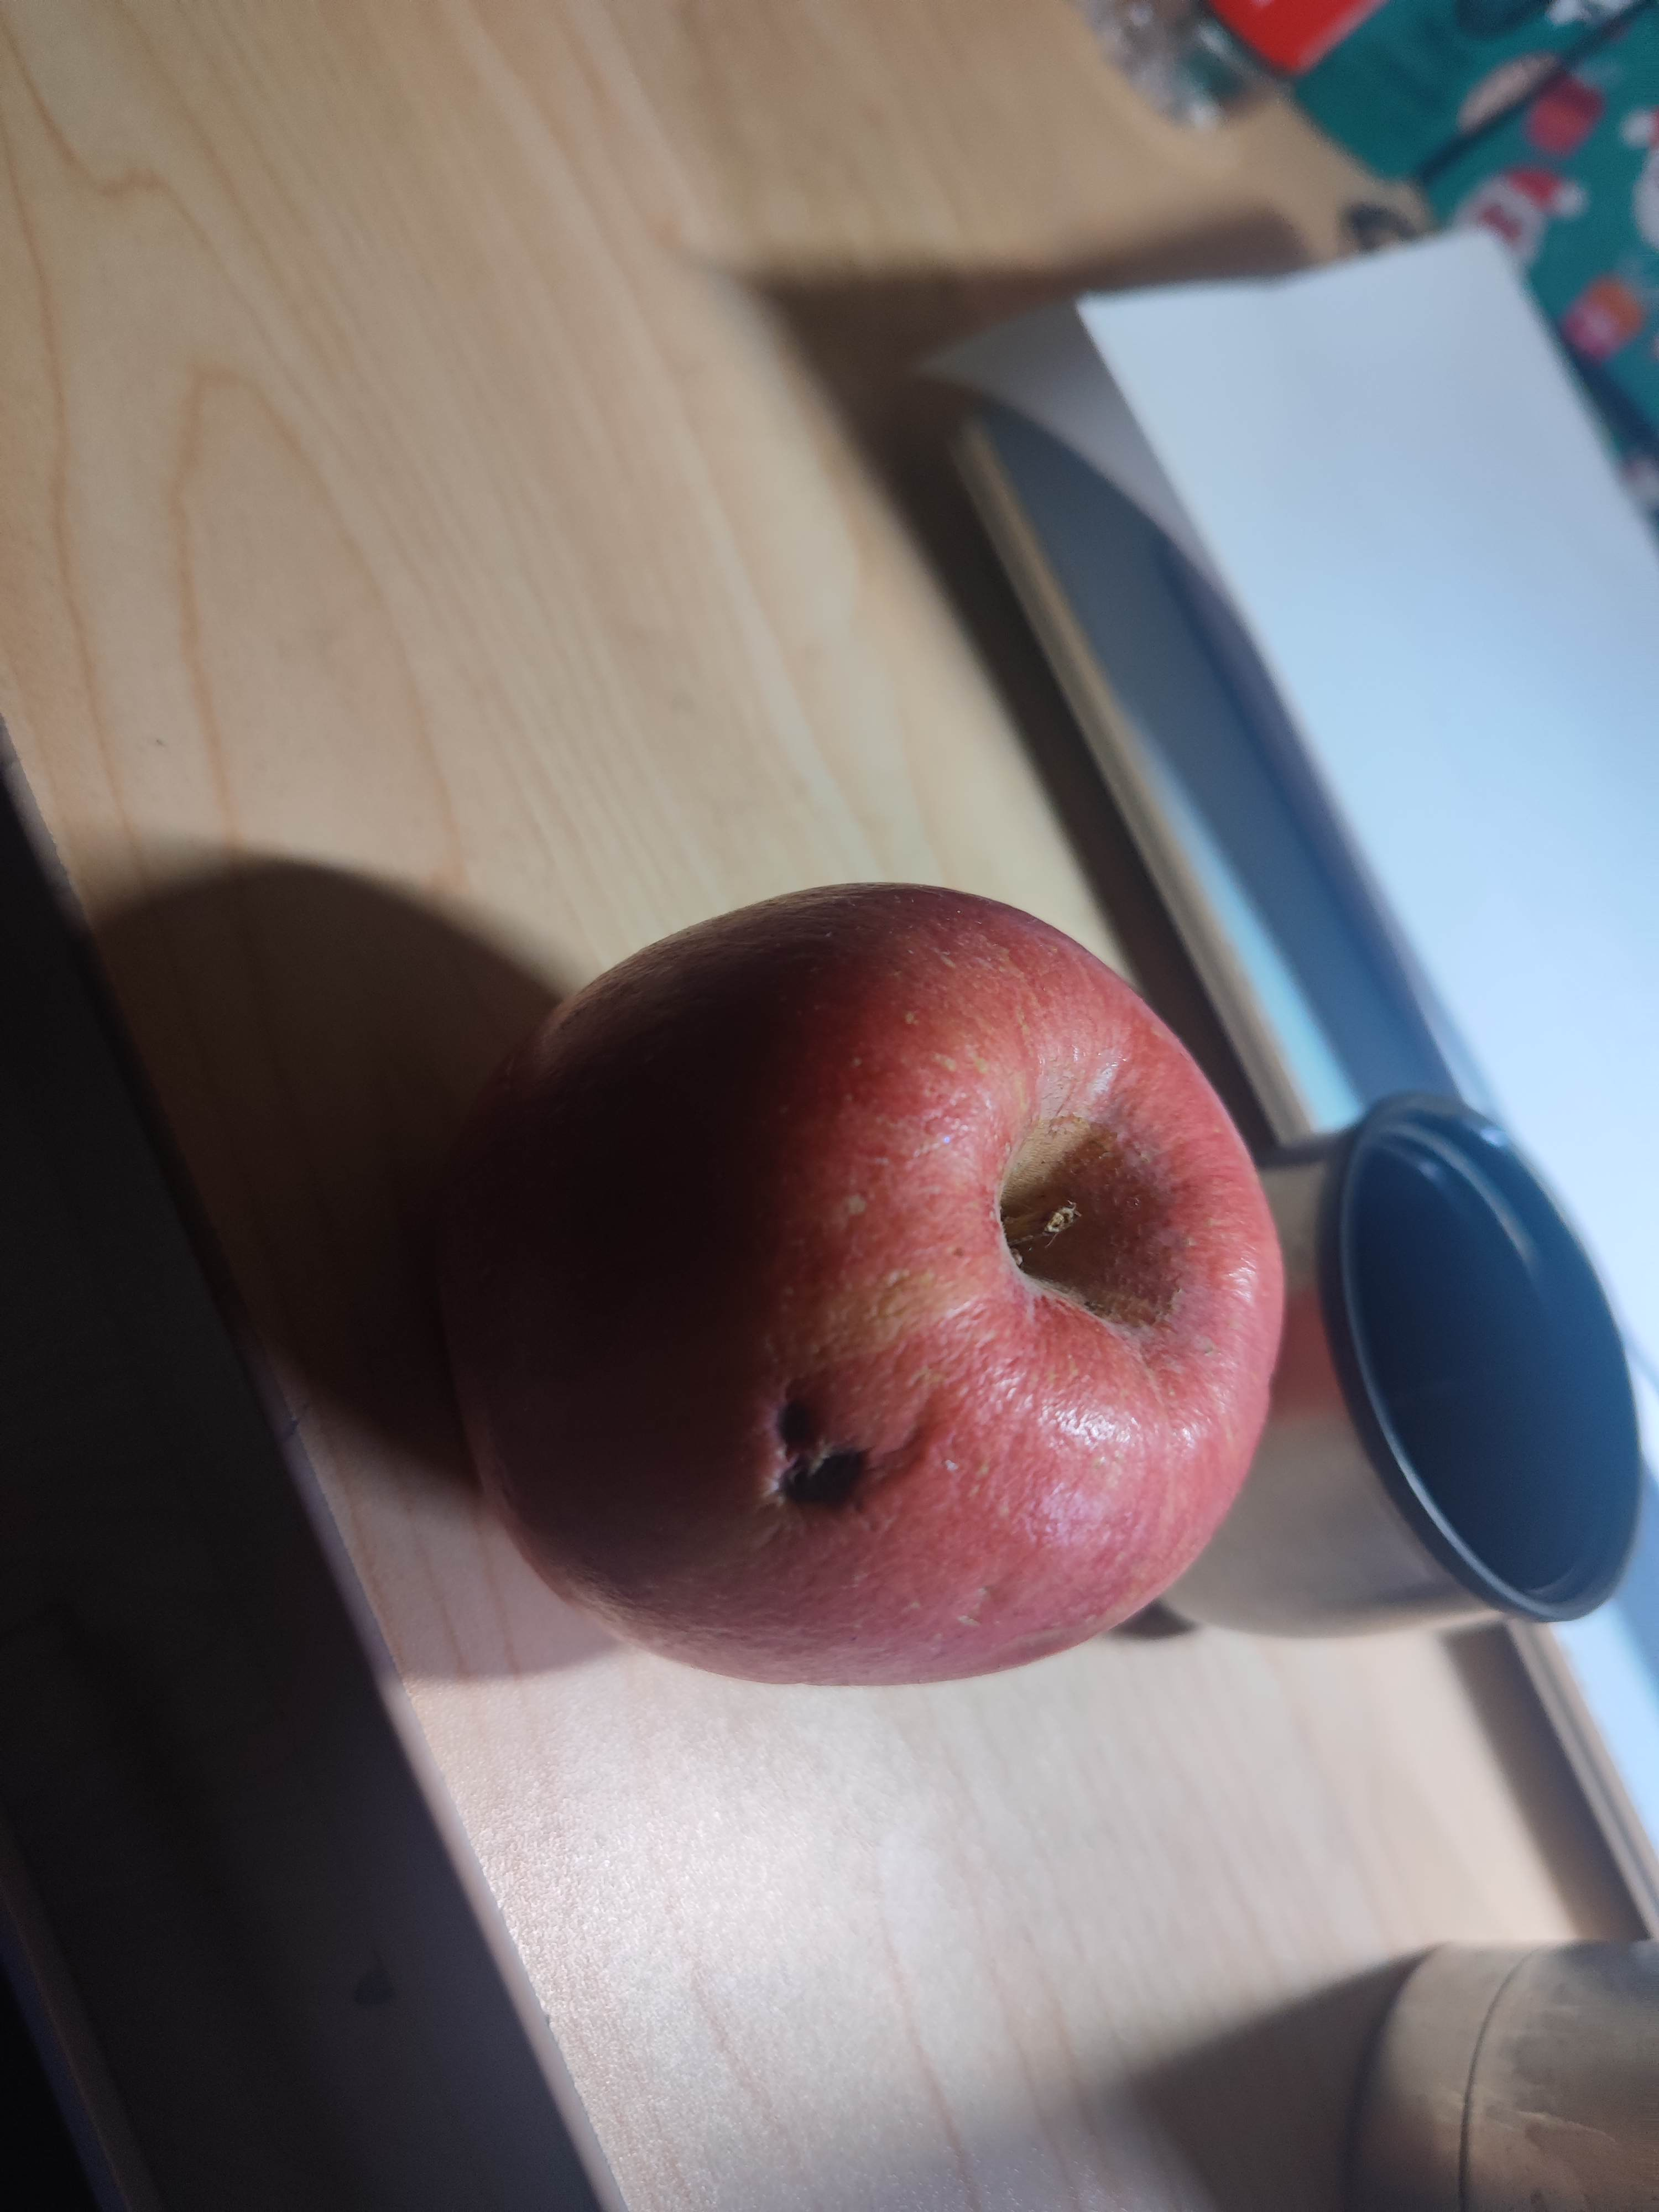apple: (453, 881, 1291, 1696)
